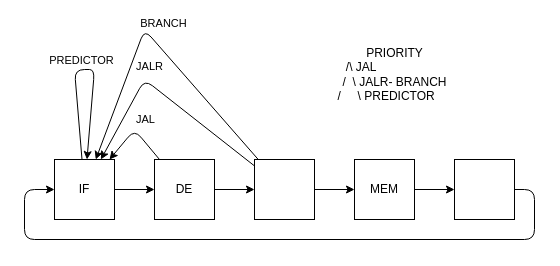
Some shapes in this 560 by 266 pixel diagram are drawn without their labels. Each missing label, with the centre of its shape:
"EX" goes at (x=284, y=189).
"WB" goes at (x=484, y=189).
